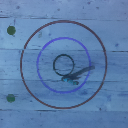Axe Tip: (67, 75, 78, 78)
